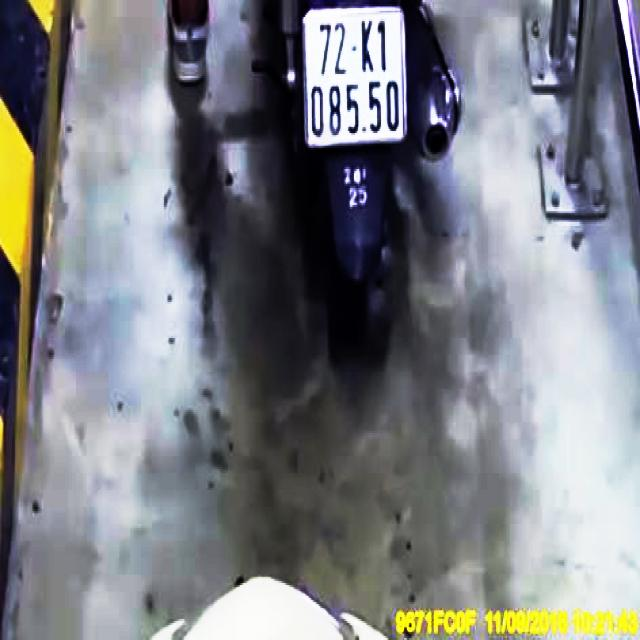license_plate: (304, 8, 406, 148)
